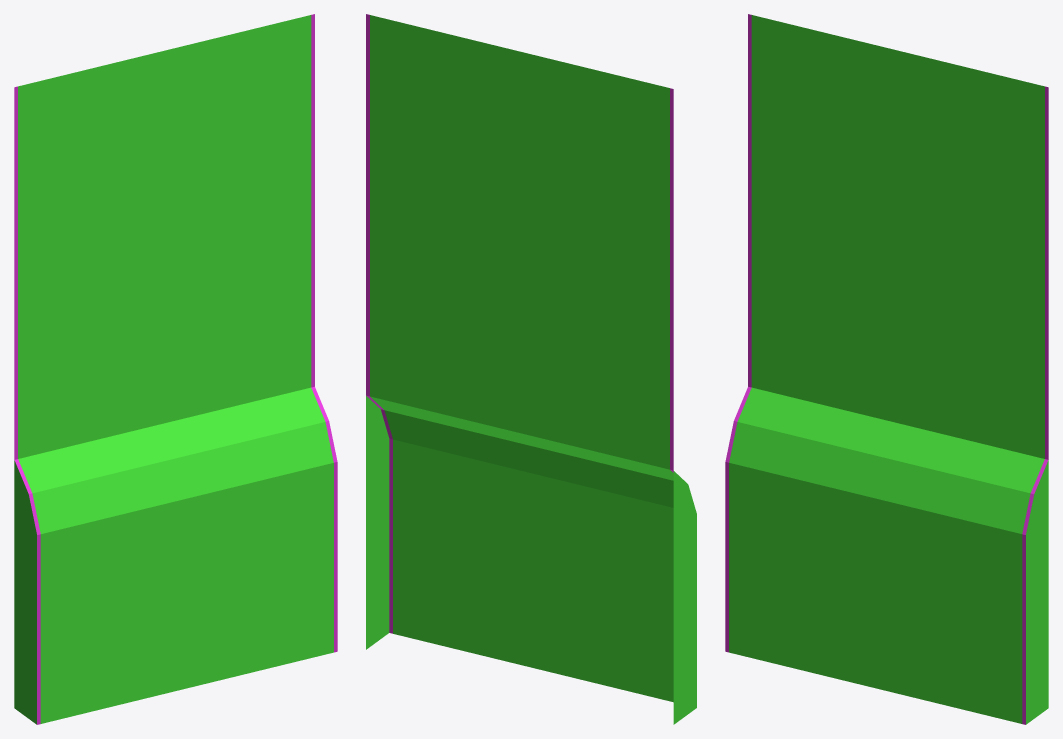
Rendered from Wall_43_K_Straight.fbx.
The picture shows the model from 3 angles, left to right: view 1: azimuth 30°, elevation 25°; view 2: azimuth 150°, elevation 25°; view 3: azimuth 330°, elevation 25°; orthographic projection. The views are drawn at different scales.
Visible parts, largest first — view 1: Wall_43_K_Straight; view 2: Wall_43_K_Straight; view 3: Wall_43_K_Straight.
Boxes of the visible parts, x1=… form: Wall_43_K_Straight: x1=14, y1=14, x2=337, y2=724; Wall_43_K_Straight: x1=366, y1=14, x2=696, y2=724; Wall_43_K_Straight: x1=725, y1=14, x2=1048, y2=724.
Bounding box in the file's own units: 231 × 457 × 30.28.
